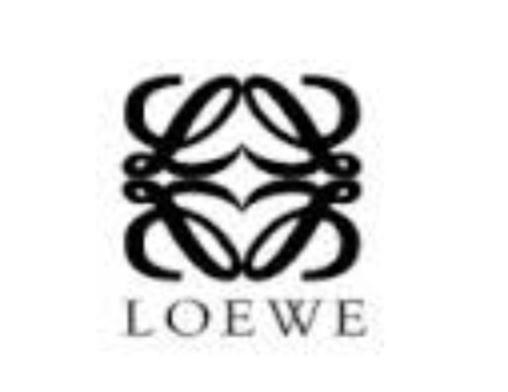LOEWE: (97, 55, 383, 350)
